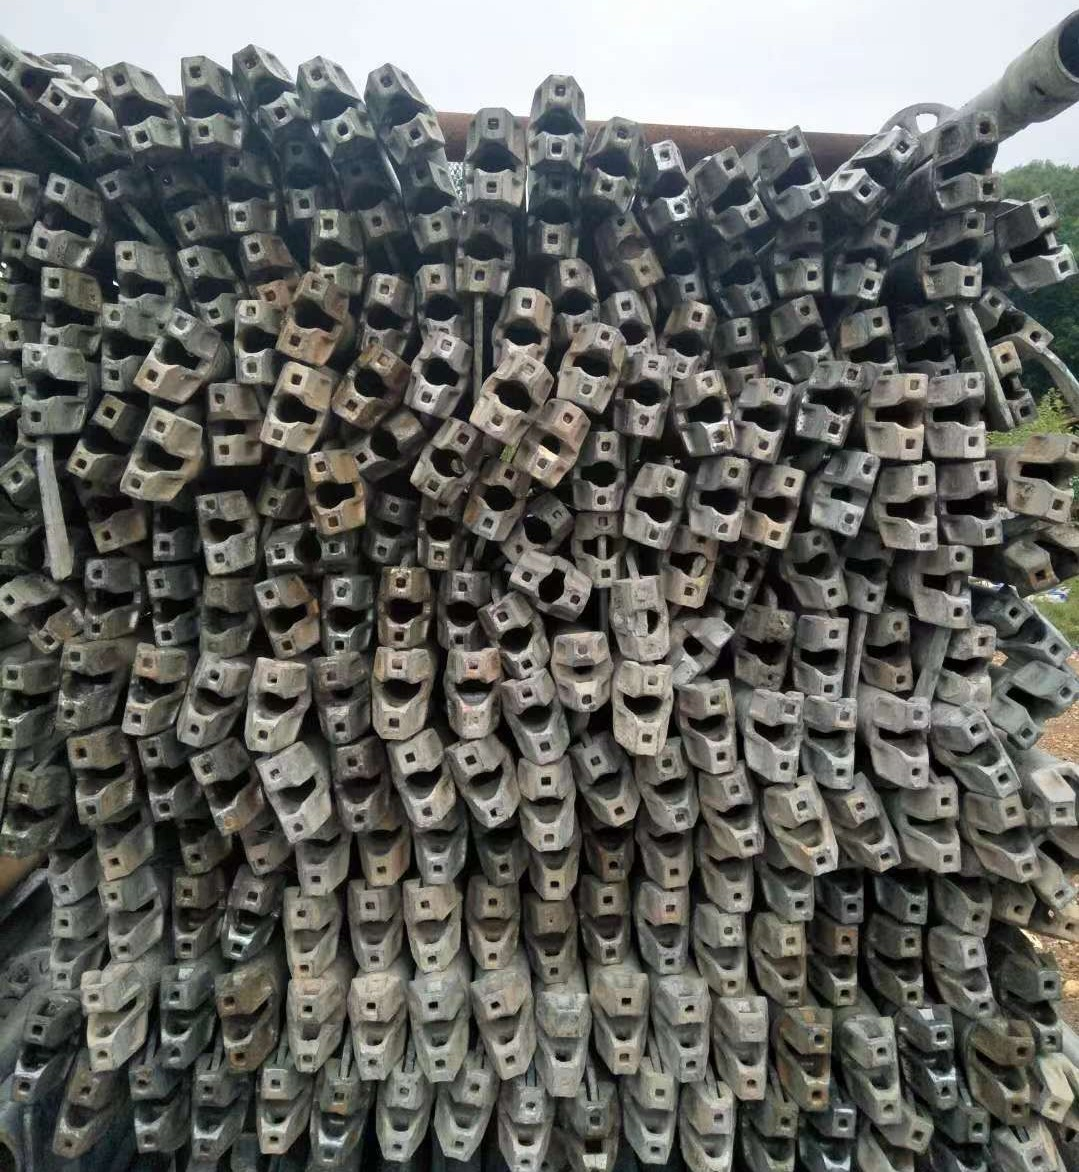NHsquare_steel: (531, 1002, 586, 1098), (672, 616, 735, 684)
THsquare_steel: (839, 123, 923, 215), (366, 56, 439, 160), (1, 43, 90, 127), (139, 307, 215, 398), (118, 407, 190, 503), (263, 356, 334, 453), (300, 54, 366, 155), (100, 57, 168, 155), (477, 356, 555, 439), (765, 120, 833, 213), (952, 707, 1019, 800), (1006, 668, 1079, 750), (565, 321, 630, 413), (260, 753, 328, 843), (236, 42, 302, 133), (245, 661, 311, 751), (177, 661, 245, 748), (464, 104, 523, 207), (339, 155, 405, 245), (702, 145, 770, 232), (777, 788, 843, 876), (412, 419, 483, 501), (518, 400, 587, 484), (587, 114, 647, 210), (816, 450, 883, 536), (189, 748, 253, 838), (615, 660, 674, 756), (278, 274, 343, 361), (333, 353, 407, 430), (996, 591, 1073, 666), (528, 69, 586, 167), (509, 549, 590, 619), (175, 54, 233, 150), (407, 335, 475, 418), (464, 461, 533, 542), (624, 463, 688, 549), (778, 1020, 839, 1110), (51, 1071, 112, 1161), (394, 739, 457, 826), (482, 595, 548, 678), (1022, 190, 1077, 289), (949, 104, 1001, 208), (119, 648, 180, 736), (453, 739, 514, 825), (692, 455, 752, 542), (681, 369, 740, 456), (706, 771, 766, 859), (474, 985, 529, 1079), (722, 1008, 776, 1103), (601, 210, 666, 290), (846, 218, 906, 303), (689, 679, 742, 774), (309, 1080, 366, 1168), (506, 678, 566, 763), (399, 161, 457, 247), (405, 888, 463, 974), (982, 288, 1055, 356), (69, 394, 129, 478), (841, 785, 900, 869), (174, 242, 235, 323), (909, 1019, 962, 1112), (125, 1067, 181, 1155), (258, 574, 315, 660), (436, 1079, 495, 1162), (658, 990, 710, 1084), (334, 743, 387, 835), (884, 692, 934, 789), (812, 363, 869, 448), (643, 747, 698, 835), (375, 650, 429, 739), (716, 233, 775, 313), (284, 989, 340, 1074), (528, 172, 582, 259), (854, 1031, 905, 1124), (16, 345, 68, 436), (215, 148, 272, 232), (1, 765, 51, 859), (252, 1067, 304, 1157), (504, 495, 575, 561), (348, 891, 405, 973), (525, 761, 576, 851), (83, 982, 134, 1073), (58, 643, 110, 732), (986, 343, 1041, 427), (583, 743, 636, 830), (10, 1010, 59, 1104), (648, 133, 698, 225), (68, 739, 122, 824), (73, 125, 131, 204), (792, 531, 849, 611), (4, 579, 64, 654), (704, 906, 754, 996), (459, 206, 510, 295), (153, 166, 212, 243), (220, 880, 277, 961), (184, 1073, 236, 1160), (216, 979, 264, 1073), (743, 380, 796, 465), (622, 355, 676, 438), (315, 661, 370, 743), (33, 268, 89, 348), (447, 651, 499, 737), (351, 991, 400, 1082), (281, 895, 336, 976), (351, 416, 424, 477), (955, 459, 1004, 549), (73, 474, 129, 553), (471, 883, 522, 969), (917, 783, 964, 876), (812, 696, 857, 791), (418, 989, 465, 1080), (757, 465, 810, 548), (947, 931, 999, 1015), (1035, 424, 1079, 523), (305, 451, 360, 530), (30, 174, 78, 263), (986, 802, 1040, 882), (555, 633, 611, 710), (204, 382, 254, 468), (743, 611, 794, 694), (882, 369, 928, 461), (940, 372, 988, 460), (322, 574, 374, 655), (893, 461, 939, 553), (530, 900, 581, 983), (600, 985, 646, 1077), (764, 919, 812, 1007), (647, 888, 695, 976), (276, 135, 325, 221), (377, 571, 431, 648), (83, 560, 136, 639), (781, 295, 840, 365), (196, 494, 248, 574), (801, 615, 851, 697), (851, 303, 908, 377), (377, 1083, 429, 1162), (154, 977, 199, 1068), (635, 1077, 680, 1168), (196, 577, 247, 656), (759, 694, 804, 783), (942, 213, 988, 300), (360, 274, 412, 350), (143, 567, 192, 647), (590, 885, 639, 966), (784, 215, 834, 294), (101, 882, 151, 961), (169, 876, 215, 961), (43, 910, 87, 997), (953, 625, 999, 709), (872, 613, 919, 694), (2, 663, 45, 750), (141, 739, 186, 823), (240, 235, 294, 304), (687, 1097, 737, 1172), (664, 225, 712, 302), (440, 574, 489, 649), (500, 289, 554, 357), (753, 1101, 804, 1172), (821, 921, 864, 1006), (580, 430, 624, 512), (506, 1089, 550, 1172), (234, 302, 277, 386), (670, 301, 718, 376), (1019, 535, 1079, 594), (886, 927, 930, 1008), (911, 304, 960, 376), (363, 494, 412, 565), (555, 257, 600, 333), (876, 1115, 935, 1172), (574, 1102, 622, 1172), (99, 303, 137, 392), (416, 265, 465, 333), (1027, 963, 1064, 1053), (996, 1033, 1033, 1123), (93, 821, 151, 877), (724, 319, 775, 382), (112, 238, 162, 302), (264, 532, 354, 568), (357, 829, 409, 890), (295, 835, 346, 897), (612, 288, 658, 356), (421, 497, 463, 569), (416, 826, 465, 888), (702, 854, 757, 910), (45, 833, 88, 904), (474, 824, 524, 884), (813, 1107, 859, 1172), (646, 832, 699, 888), (590, 823, 637, 886), (945, 879, 996, 936), (312, 207, 351, 282), (854, 539, 894, 612), (1040, 834, 1079, 908), (769, 865, 819, 921), (146, 502, 192, 561), (882, 872, 935, 923), (1006, 900, 1079, 937), (951, 1114, 996, 1172), (176, 819, 222, 873), (1034, 772, 1079, 827), (240, 824, 286, 877), (1, 231, 30, 315), (533, 851, 581, 900), (830, 873, 874, 924), (1039, 1079, 1079, 1130)
THsquare_steel_blocked: (615, 574, 668, 660), (666, 533, 722, 607), (930, 543, 975, 629), (574, 514, 624, 584), (254, 450, 304, 520), (716, 548, 771, 607)
circle_steel: (1055, 9, 1079, 87)
